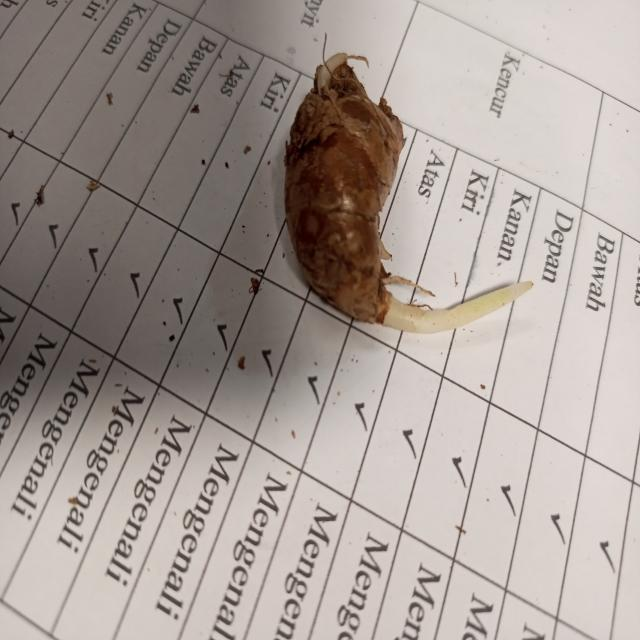ginger: (284, 56, 410, 319)
